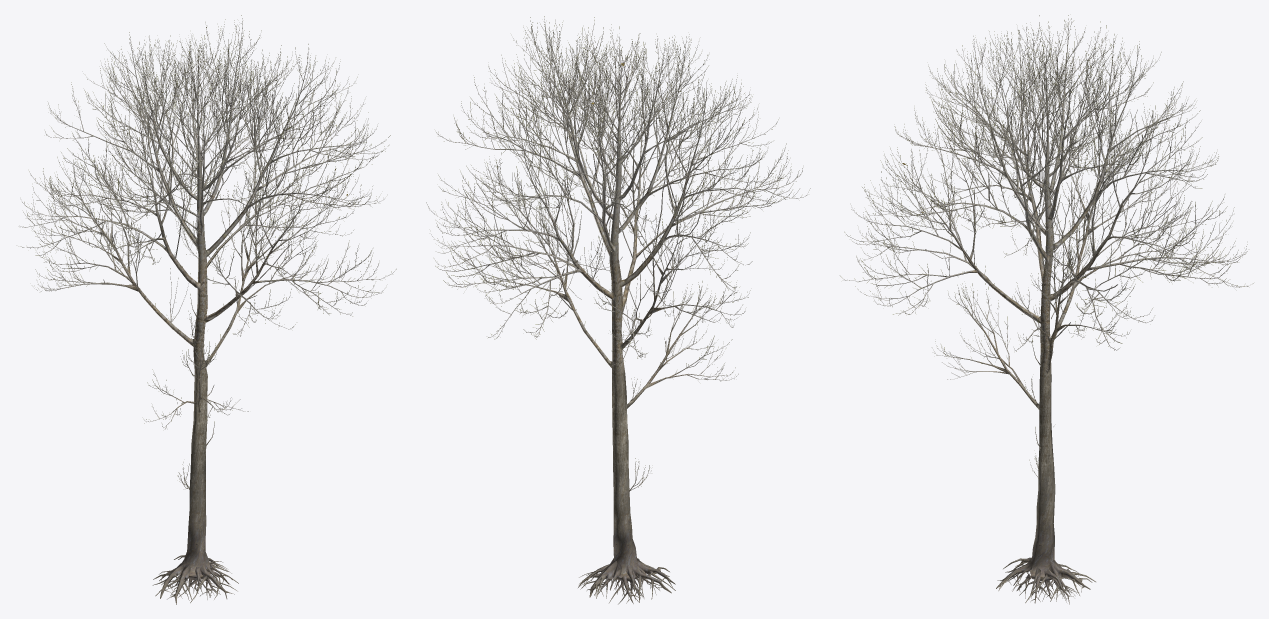
Rendered from Populus nigra HD_Forest 2 winter mat 100_LOD3.fbx.
3 renders of one model, left to right at view 1: azimuth 30°, elevation 25°; view 2: azimuth 150°, elevation 25°; view 3: azimuth 270°, elevation 25°, orthographic. The views are drawn at different scales.
Visible parts, largest first — view 1: Populus_nigra_HD; view 2: Populus_nigra_HD; view 3: Populus_nigra_HD.
Part boxes in pixels (x1,y1,x2,y2): Populus_nigra_HD: [19, 15, 396, 604]; Populus_nigra_HD: [426, 16, 810, 604]; Populus_nigra_HD: [840, 15, 1253, 604].
Size of the model in its own units: 18.51 by 29.79 by 19.87.
Materials: 6 (6 with a texture image).
